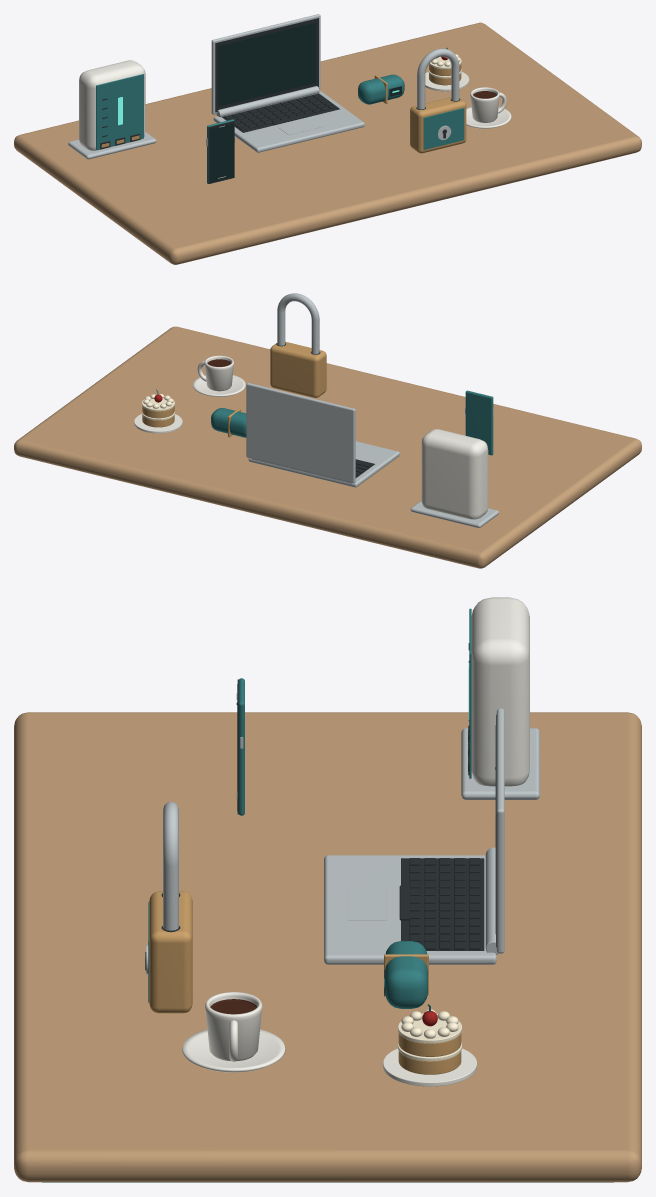
File: crypto_props.glb
3 views of the same model, one above another, from view 1: azimuth 30°, elevation 25°; view 2: azimuth 150°, elevation 25°; view 3: azimuth 270°, elevation 25° (orthographic). The views are drawn at different scales.
Visible parts, largest first — view 1: CafeTable solid oak, Laptop screen, Gateway inset, Laptop bottom, Gateway housing, Lock brass body, Phone screen, Laptop bezel, Lock face inset, Hardened steel shackle, Laptop screen shell, Capsule main (+6 smaller); view 2: CafeTable solid oak, Laptop screen shell, Gateway housing, Lock brass body, Phone aluminium chassis, Laptop bottom, Hardened steel shackle, Cup ceramic wall, Capsule main, Gateway pedestal, Saucer, Cake plate; view 3: CafeTable solid oak, Gateway housing, Laptop bottom, Lock brass body, Laptop keyboard well, Cup ceramic wall, Capsule main, Saucer, Laptop screen shell, Gateway pedestal, Hardened steel shackle, Cake plate (+5 smaller).
Boxes of the visible parts, x1,y1,x2,y2 form: CafeTable solid oak: (14, 22, 641, 264); Laptop screen: (218, 22, 315, 106); Gateway inset: (96, 74, 143, 149); Laptop bottom: (213, 91, 364, 152); Gateway housing: (79, 60, 145, 150); Lock brass body: (410, 97, 466, 153); Phone screen: (210, 123, 233, 182); Laptop bezel: (215, 18, 318, 112); Lock face inset: (423, 108, 464, 149); Hardened steel shackle: (417, 48, 459, 109); Laptop screen shell: (211, 14, 320, 114); Capsule main: (358, 74, 404, 104); CafeTable solid oak: (14, 326, 641, 568); Laptop screen shell: (246, 383, 355, 483); Gateway housing: (421, 429, 488, 519); Lock brass body: (270, 341, 326, 397); Phone aluminium chassis: (465, 390, 493, 455); Laptop bottom: (248, 441, 399, 487); Hardened steel shackle: (277, 293, 319, 353); Cup ceramic wall: (204, 355, 233, 391); Capsule main: (211, 408, 246, 437); Gateway pedestal: (410, 501, 498, 528); Saucer: (192, 375, 245, 396); Cake plate: (134, 414, 182, 433); CafeTable solid oak: (14, 712, 641, 1182); Gateway housing: (471, 597, 529, 786); Laptop bottom: (324, 855, 496, 964); Lock brass body: (149, 891, 192, 1013); Laptop keyboard well: (401, 858, 484, 950); Cup ceramic wall: (205, 992, 262, 1061); Capsule main: (385, 941, 427, 1008); Saucer: (182, 1029, 285, 1072); Laptop screen shell: (496, 708, 504, 953); Gateway pedestal: (461, 728, 539, 799); Hardened steel shackle: (163, 801, 178, 930); Cake plate: (383, 1048, 476, 1086).
Size of the model in its own units: 1.35 by 0.324 by 0.8.
